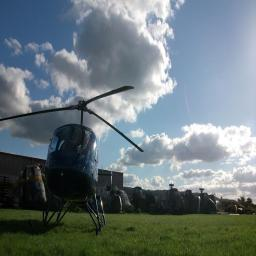helicopter: (2, 86, 149, 241)
